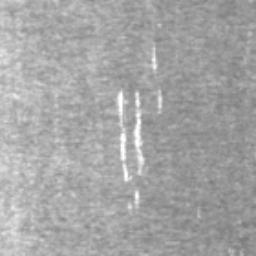White rust: (116, 87, 134, 182), (133, 90, 146, 176), (127, 189, 140, 216), (151, 42, 158, 71), (157, 88, 162, 114)
